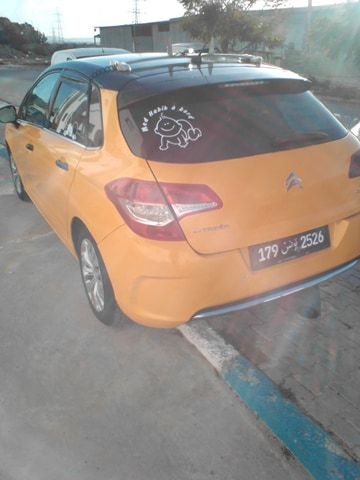LP: (248, 225, 332, 270)
